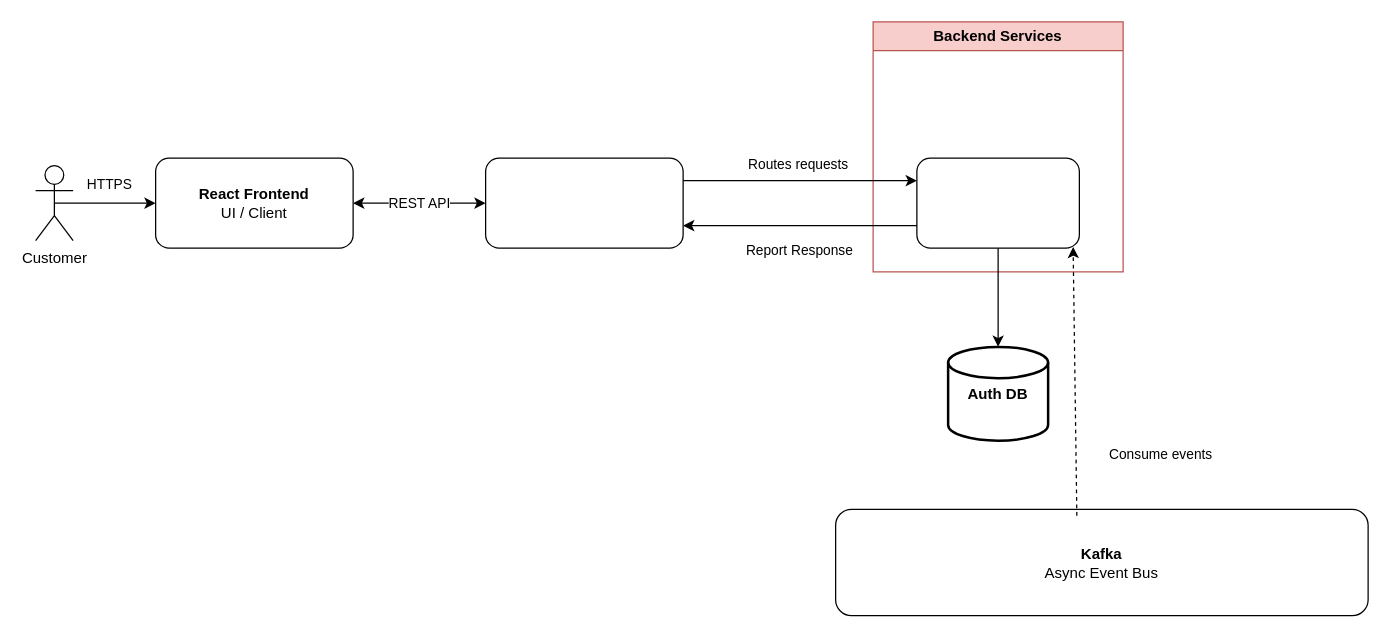
Image size: 1390x638. Some labels were removed from this diagram. The shapes that lost their labels are listed below. From the top down, each one's box as (x1, y1, x2, y2) in pixels, then its label:
(484, 157, 683, 248): API Gateway Routing / Auth / Rate Limit
(916, 157, 1079, 248): Score Service
